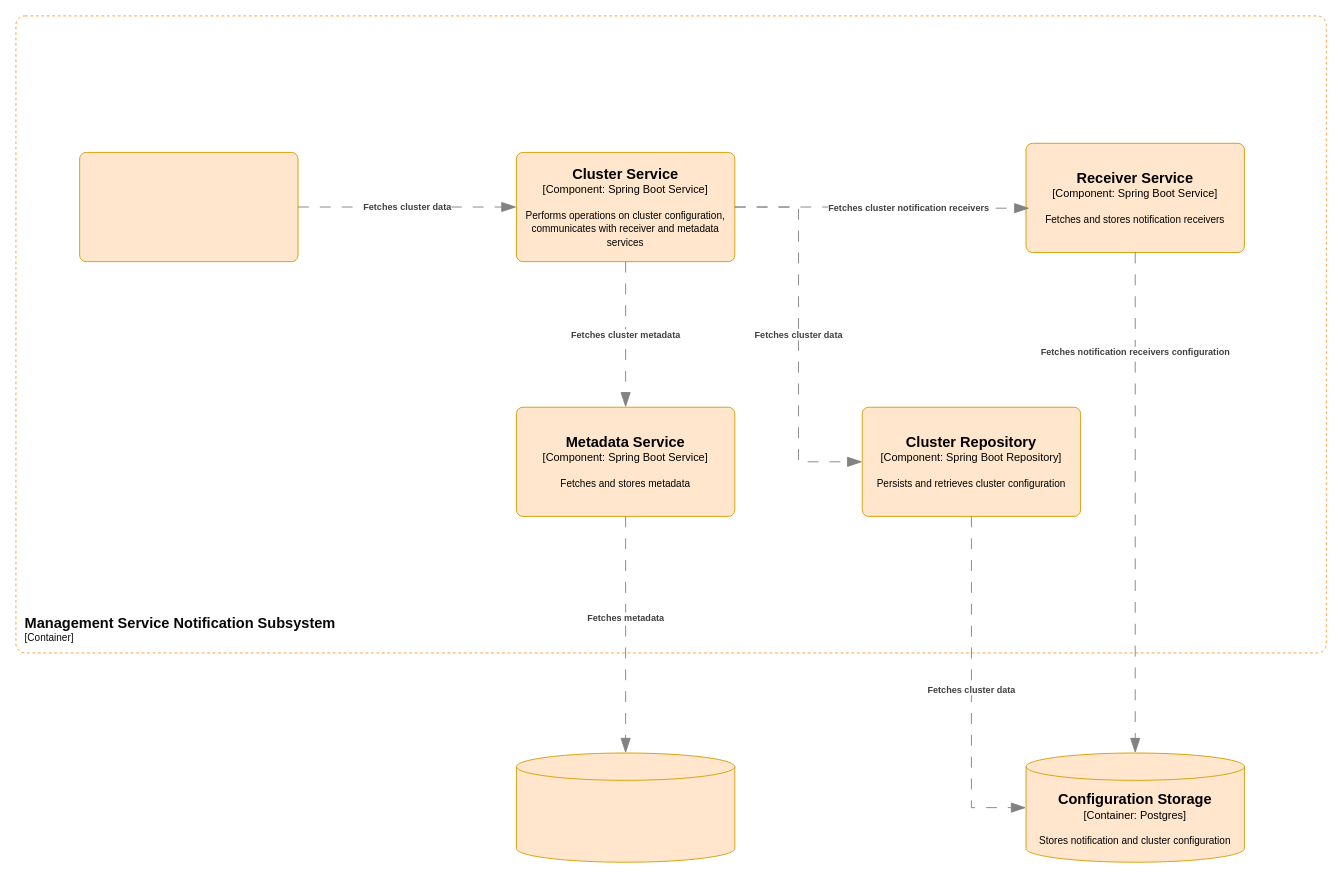
This 1342x878 diagram has some shape labels left out. Each missing label, with the centre of its shape:
Cluster Controller [Component: Spring Boot Controller] Cluster API: the point at 188,207
Metadata Storage [Container: MongoDB] Stores metadata and aggregated metadata: the point at 625,807
